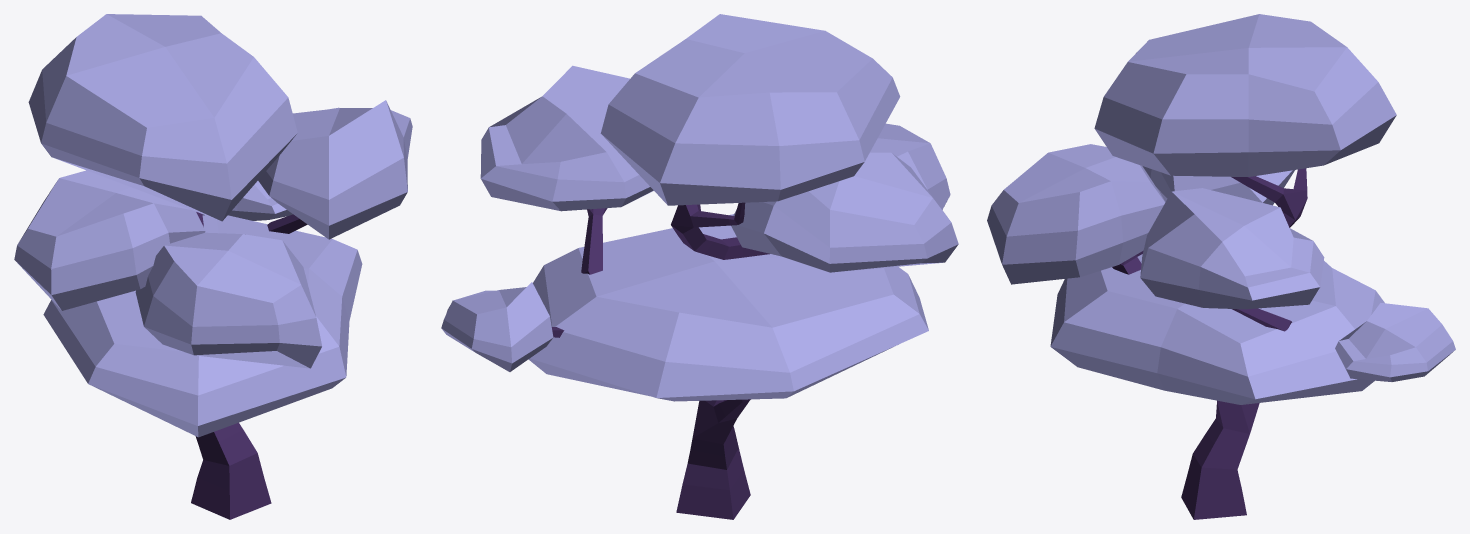
Rendered from Tree_01.fbx.
3 views of the same model, side by side, from view 1: azimuth 30°, elevation 25°; view 2: azimuth 150°, elevation 25°; view 3: azimuth 270°, elevation 25° (orthographic). The views are drawn at different scales.
Visible parts, largest first — view 1: Tree_01; view 2: Tree_01; view 3: Tree_01.
Boxes of the visible parts, left/top/right/bottom form: Tree_01: left=14, top=14, right=412, bottom=519; Tree_01: left=441, top=14, right=958, bottom=519; Tree_01: left=987, top=14, right=1455, bottom=519.
Size of the model in its own units: 1132 by 1195 by 1164.
